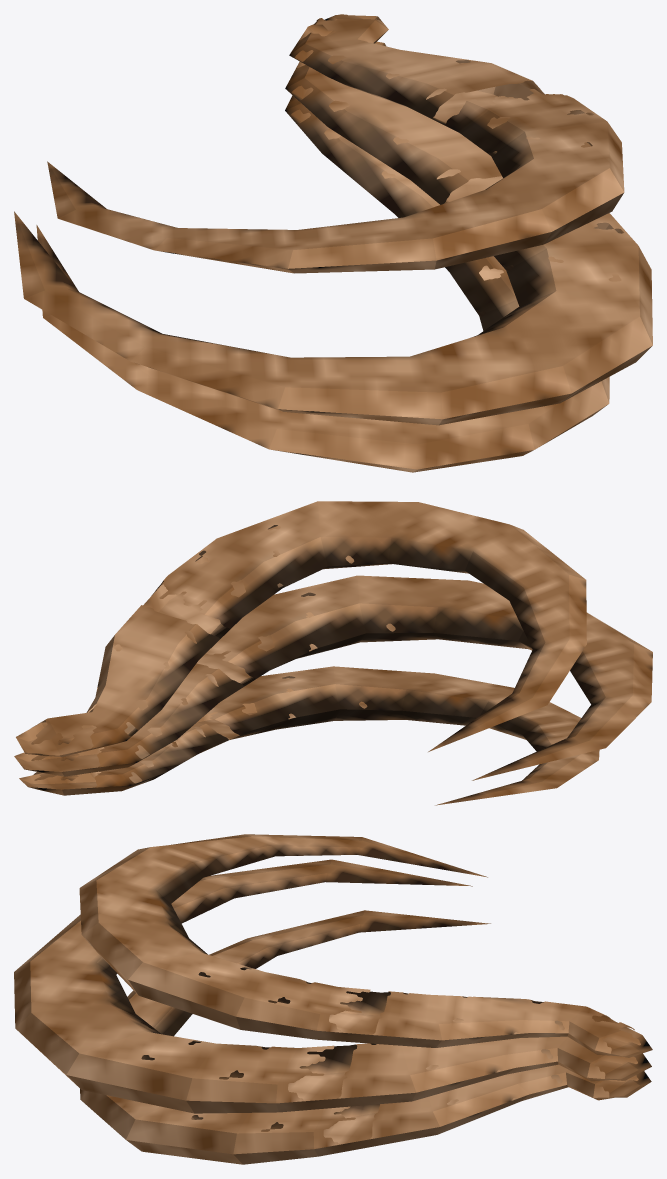
The model's file is reaperclaw.obj.
3 renders of one model, top to bottom at view 1: azimuth 30°, elevation 25°; view 2: azimuth 150°, elevation 25°; view 3: azimuth 270°, elevation 25°, orthographic. The views are drawn at different scales.
Parts seen in each view (by area): view 1: base; view 2: base; view 3: base.
Boxes of the visible parts, left/top/right/bottom form: base: left=14, top=14, right=652, bottom=472; base: left=14, top=501, right=652, bottom=805; base: left=14, top=834, right=652, bottom=1164.
Bounding box in the file's own units: 0.6354 × 0.2689 × 0.7851.
